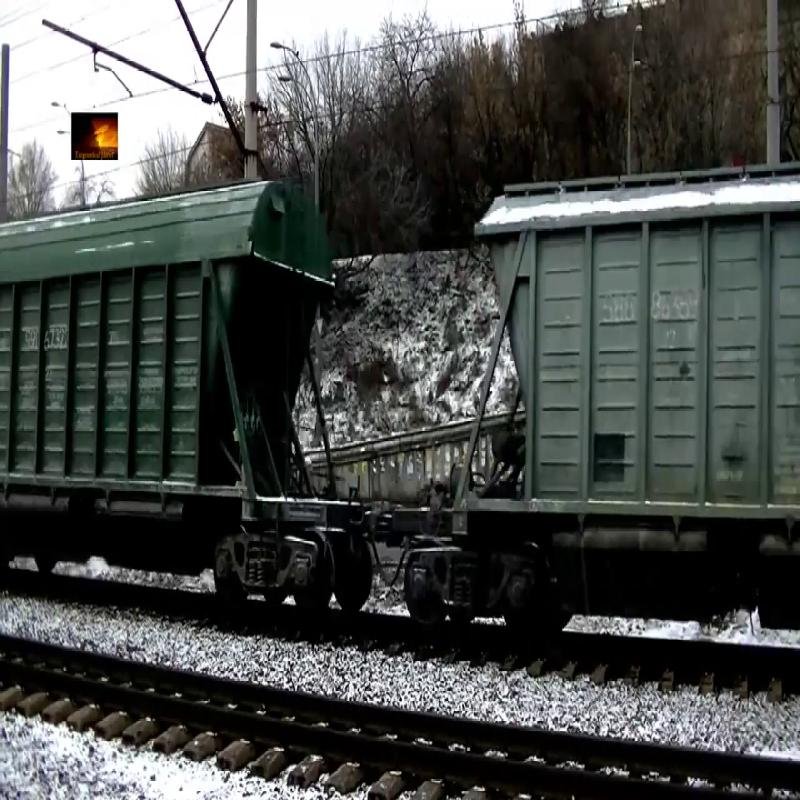train: (450, 158, 800, 553), (1, 175, 343, 545)
